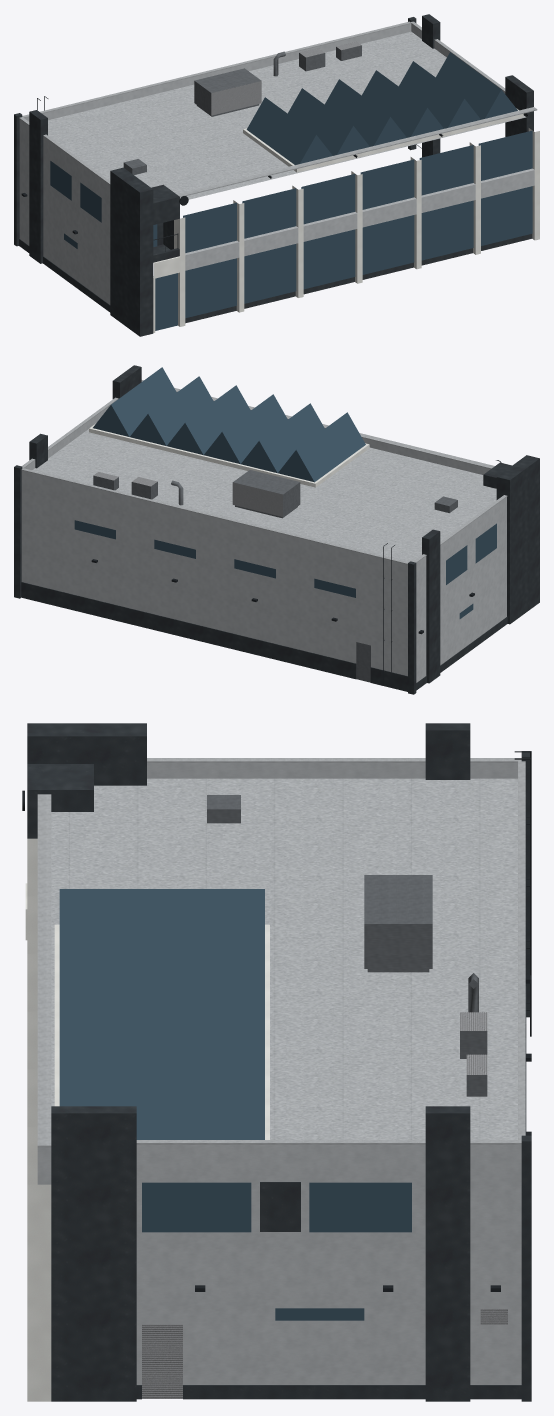
The model's file is boulevard_beauty_center_lod2.glb.
3 views of the same model, one above another, from view 1: azimuth 30°, elevation 25°; view 2: azimuth 150°, elevation 25°; view 3: azimuth 270°, elevation 25° (orthographic). The views are drawn at different scales.
Visible parts, largest first — view 1: MAT_Window_Glass_Far, MAT_Roof_Membrane, MAT_Concrete_Light, MAT_Concrete_Dark, MAT_White_Panel, MAT_Metal_Graphite, MAT_Door_Metal, MAT_Louver; view 2: MAT_Concrete_Light, MAT_Roof_Membrane, MAT_Window_Glass_Far, MAT_Concrete_Dark, MAT_Metal_Graphite, MAT_Door_Metal, MAT_White_Panel, MAT_Louver; view 3: MAT_Roof_Membrane, MAT_Concrete_Light, MAT_Concrete_Dark, MAT_Window_Glass_Far, MAT_Metal_Graphite, MAT_White_Panel, MAT_Door_Metal, MAT_Louver.
Part boxes in pixels (x1,y1,x2,y2): MAT_Window_Glass_Far: (50,52,532,330); MAT_Roof_Membrane: (48,31,526,199); MAT_Concrete_Light: (19,24,534,304); MAT_Concrete_Dark: (14,14,533,336); MAT_White_Panel: (153,108,539,332); MAT_Metal_Graphite: (19,21,537,251); MAT_Door_Metal: (123,45,361,174); MAT_Louver: (211,41,361,115); MAT_Concrete_Light: (21,406,506,682); MAT_Roof_Membrane: (32,429,496,561); MAT_Window_Glass_Far: (74,367,496,618); MAT_Concrete_Dark: (14,365,539,694); MAT_Metal_Graphite: (21,380,507,686); MAT_Door_Metal: (93,470,457,682); MAT_White_Panel: (89,423,369,487); MAT_Louver: (93,472,282,516); MAT_Roof_Membrane: (51,778,517,1139); MAT_Concrete_Light: (37,763,521,1384); MAT_Concrete_Dark: (27,723,531,1401); MAT_Window_Glass_Far: (59,889,411,1320); MAT_Metal_Graphite: (22,751,531,1291); MAT_White_Panel: (25,838,269,1401); MAT_Door_Metal: (207,795,487,1096); MAT_Louver: (142,1012,507,1398).
Size of what is drawn, in the model's own units: 27 by 9.76 by 14.9.
9 materials, 7 textured.
